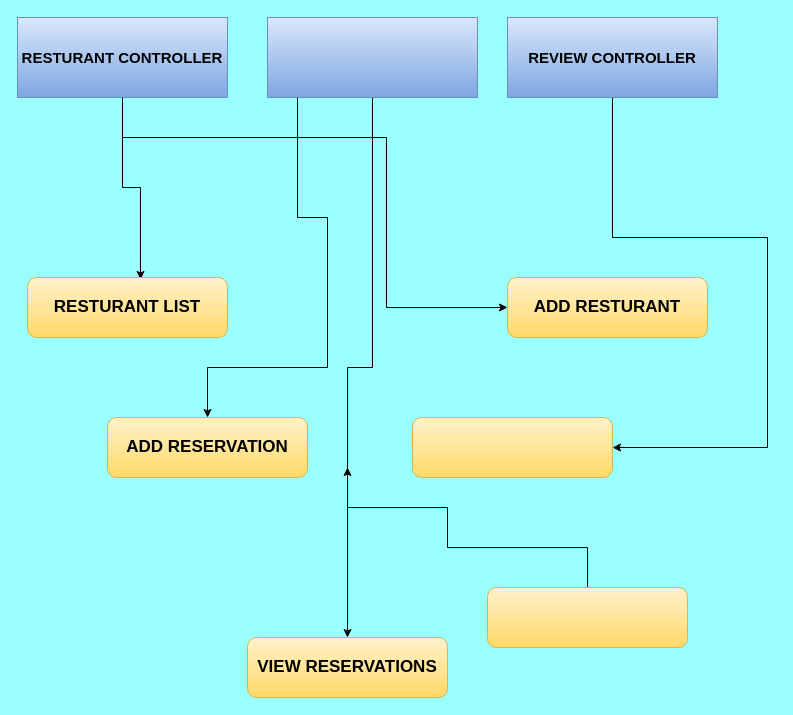
The diagram is 793 pixels wide and 715 high, and some of its shapes have lost their labels. Here are the shapes that lost their labels. From the top down, the box of each, then its label:
(266, 16, 478, 98): BOOKINGS CONTROLLER
(412, 416, 612, 478): ADD REVIEW
(486, 586, 688, 648): DELETE RESTURANT
